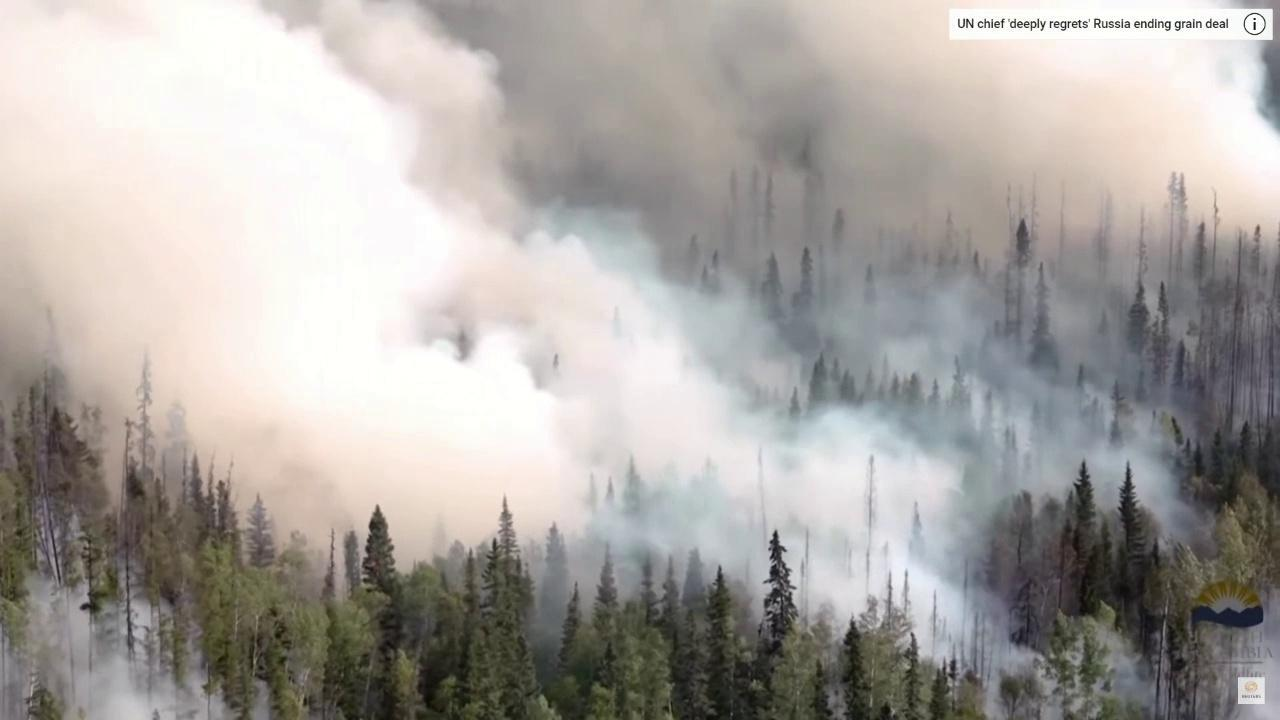smoke: (0, 0, 1280, 720), (0, 503, 275, 720)
